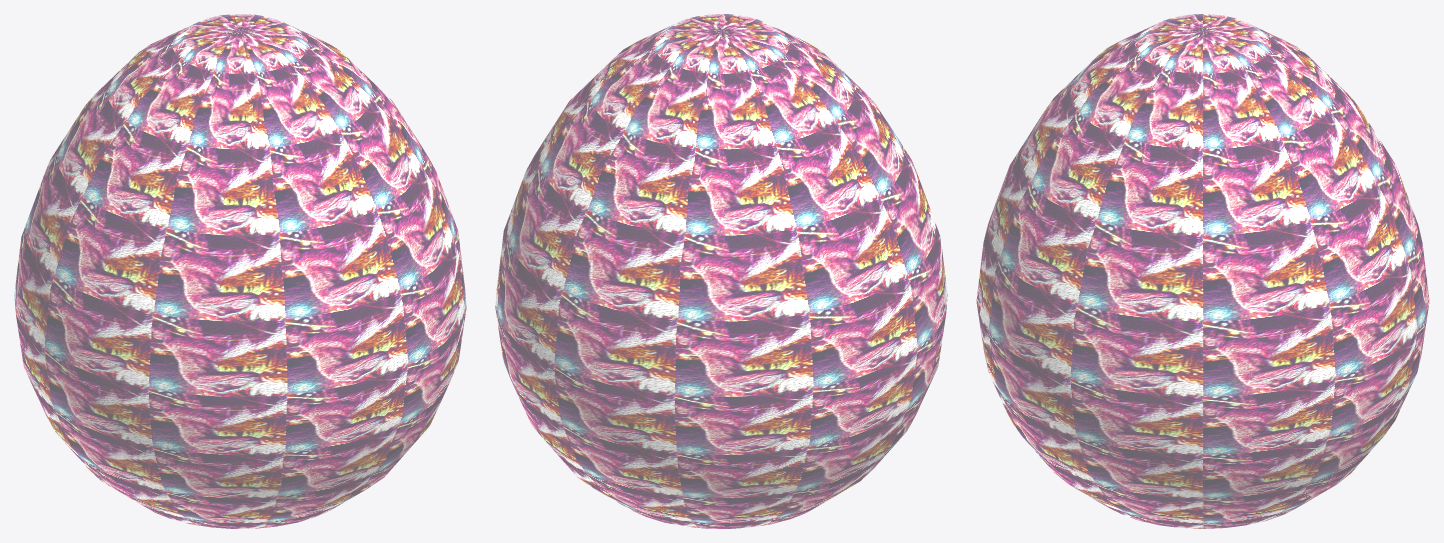
The picture shows the model from 3 angles, left to right: view 1: azimuth 30°, elevation 25°; view 2: azimuth 150°, elevation 25°; view 3: azimuth 270°, elevation 25°; orthographic projection.
Parts seen in each view (by area): view 1: EGG; view 2: EGG; view 3: EGG.
Boxes of the visible parts, left/top/right/bottom form: EGG: left=14, top=14, right=466, bottom=528; EGG: left=495, top=14, right=947, bottom=528; EGG: left=976, top=14, right=1429, bottom=528.
Size of the model in its own units: 1.99 by 2.31 by 1.99.
1 material, 1 textured.
